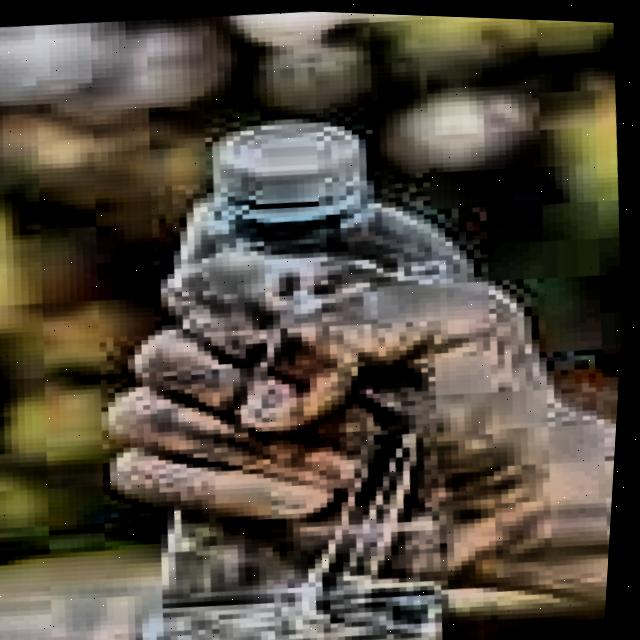plastic: (39, 57, 573, 640)
